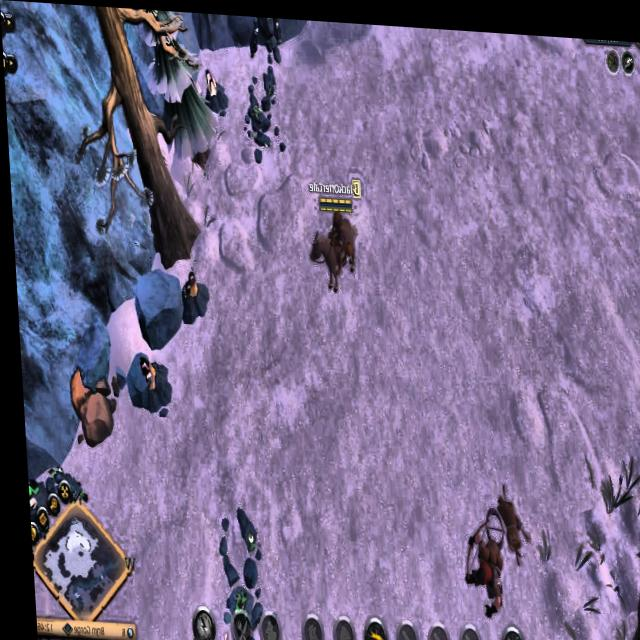copperore: (124, 346, 164, 405), (199, 61, 231, 112), (178, 263, 207, 309)
limestone: (64, 363, 117, 452)
tinore: (22, 464, 40, 547)
